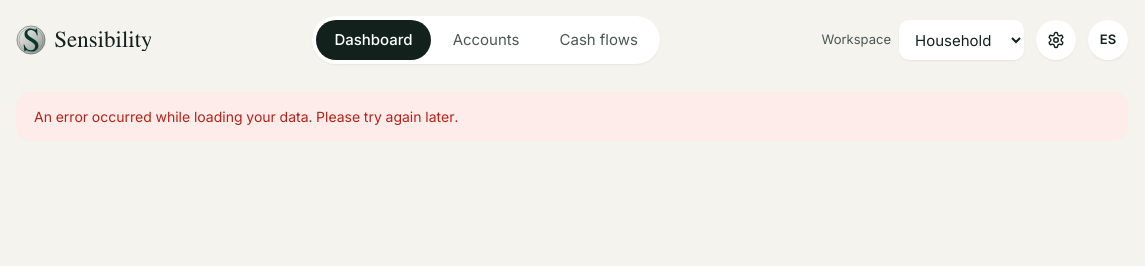
Scenario: the shell › opens the account menu
The width and height of the screenshot is (1145, 266).
Click the button with aria-label "Account menu for Ethan Swan": (1108, 40) [1088,20,1128,60]
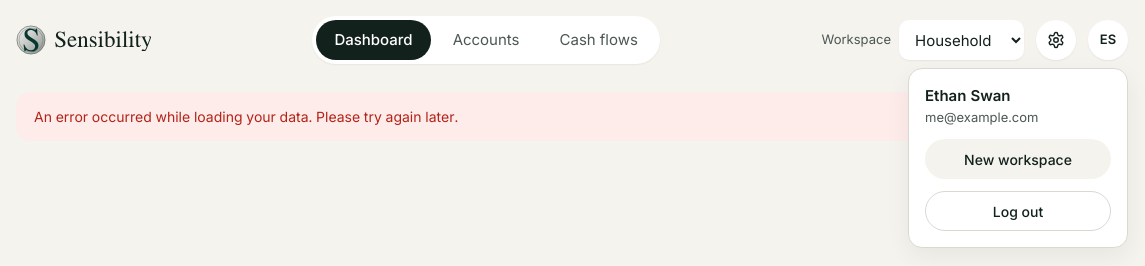
Check: the menu shows "me@example.com", box [925,108,1038,124]
